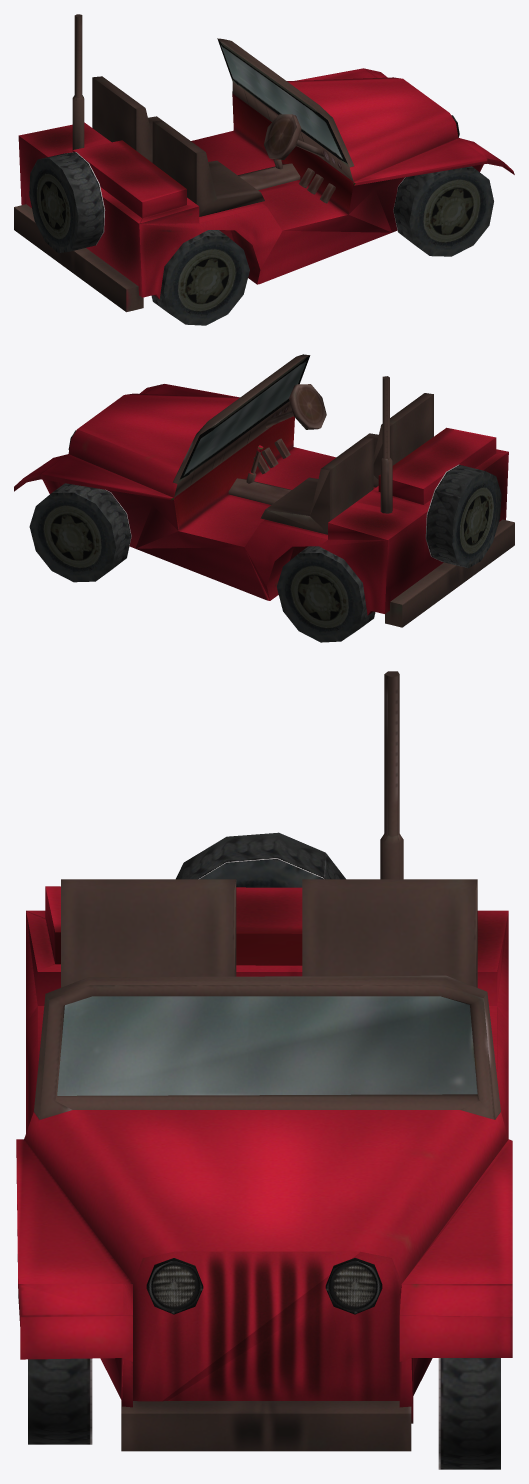
Rendered from jeep.obj.
3 views of the same model, one above another, from view 1: azimuth 30°, elevation 25°; view 2: azimuth 150°, elevation 25°; view 3: azimuth 270°, elevation 25° (orthographic). The views are drawn at different scales.
Visible parts, largest first — view 1: Group; view 2: Group; view 3: Group.
Boxes of the visible parts, left/top/right/bottom form: Group: left=14, top=14, right=514, bottom=325; Group: left=14, top=354, right=514, bottom=642; Group: left=16, top=671, right=512, bottom=1469.
Bounding box in the file's own units: 755 × 457 × 405.
